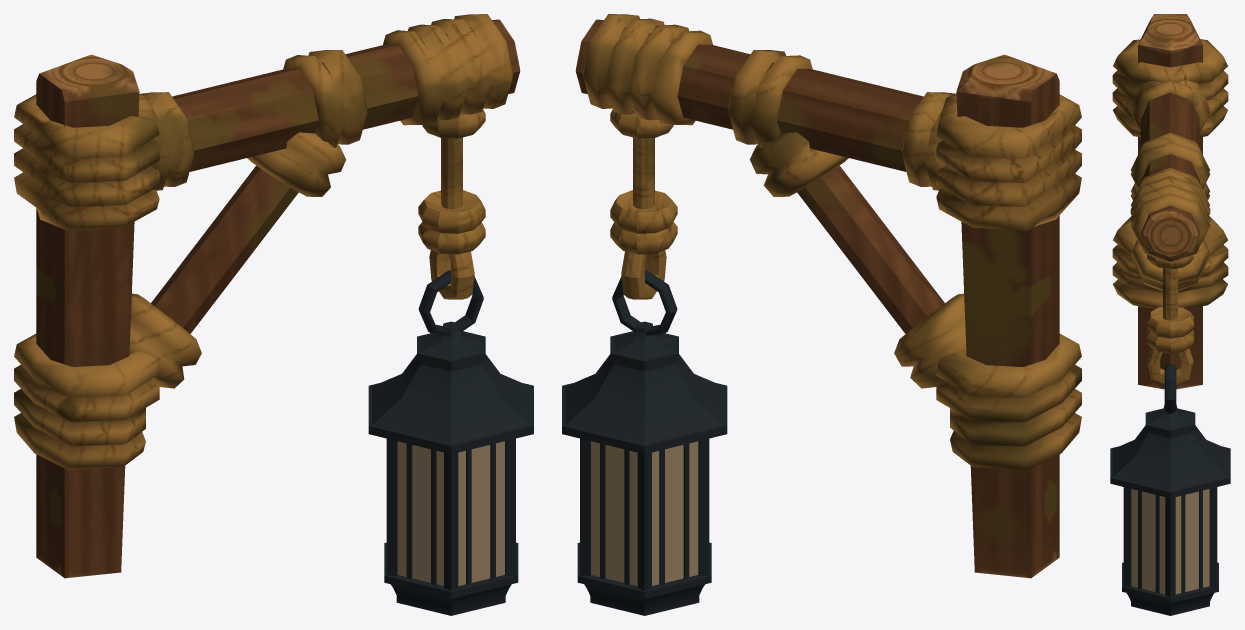
Rendered from Wall_Lantern_Post.fbx.
The picture shows the model from 3 angles, left to right: view 1: azimuth 30°, elevation 25°; view 2: azimuth 150°, elevation 25°; view 3: azimuth 270°, elevation 25°; orthographic projection. The views are drawn at different scales.
Visible parts, largest first — view 1: WallPost8; view 2: WallPost8; view 3: WallPost8.
Part boxes in pixels (x1,y1,x2,y2): WallPost8: [14, 14, 533, 615]; WallPost8: [562, 14, 1081, 615]; WallPost8: [1110, 14, 1230, 615].
Size of the model in its own units: 163 by 188 by 46.6.
Materials: 3 (3 with a texture image).
